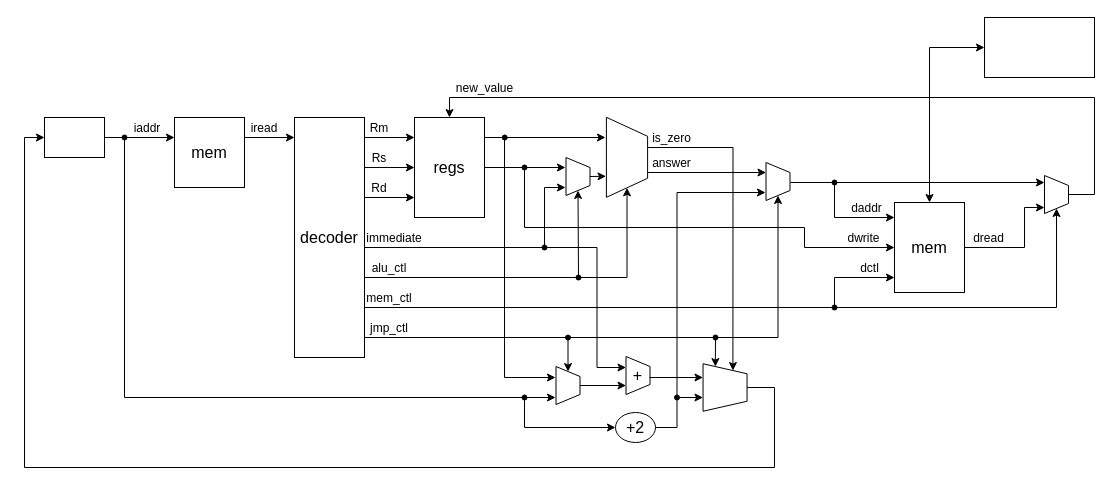
The diagram is 1120 pixels wide and 493 high, and some of its shapes have lost their labels. Each missing label, with the centre of its shape:
"ALU" goes at point 626,156.
"PC" goes at point 74,137.
"peripherals" goes at point 1039,47.
